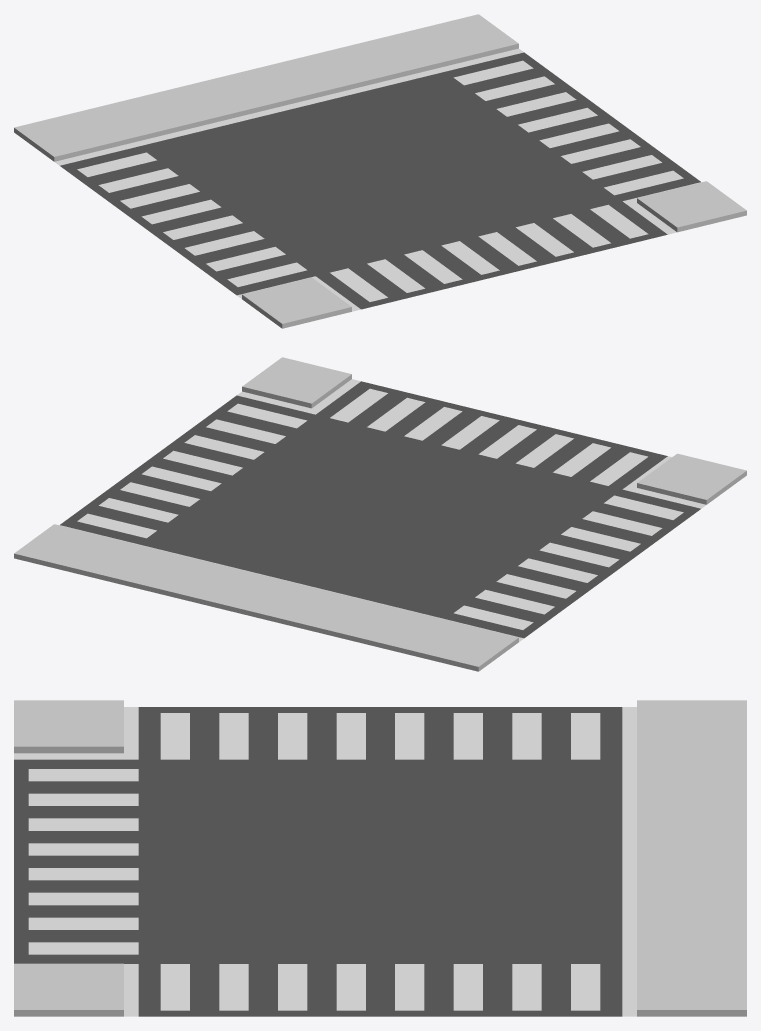
Rendered from road-t-intersection-01.glb.
3 renders of one model, top to bottom at view 1: azimuth 30°, elevation 25°; view 2: azimuth 150°, elevation 25°; view 3: azimuth 270°, elevation 25°, orthographic. The views are drawn at different scales.
Parts seen in each view (by area): view 1: model; view 2: model; view 3: model.
Part boxes in pixels (x1=…): model: x1=14, y1=14, x2=746, y2=328; model: x1=14, y1=357, x2=746, y2=671; model: x1=14, y1=700, x2=746, y2=1016.
Size of the model in its own units: 20 by 0.2 by 20.
1 material, 1 textured.
